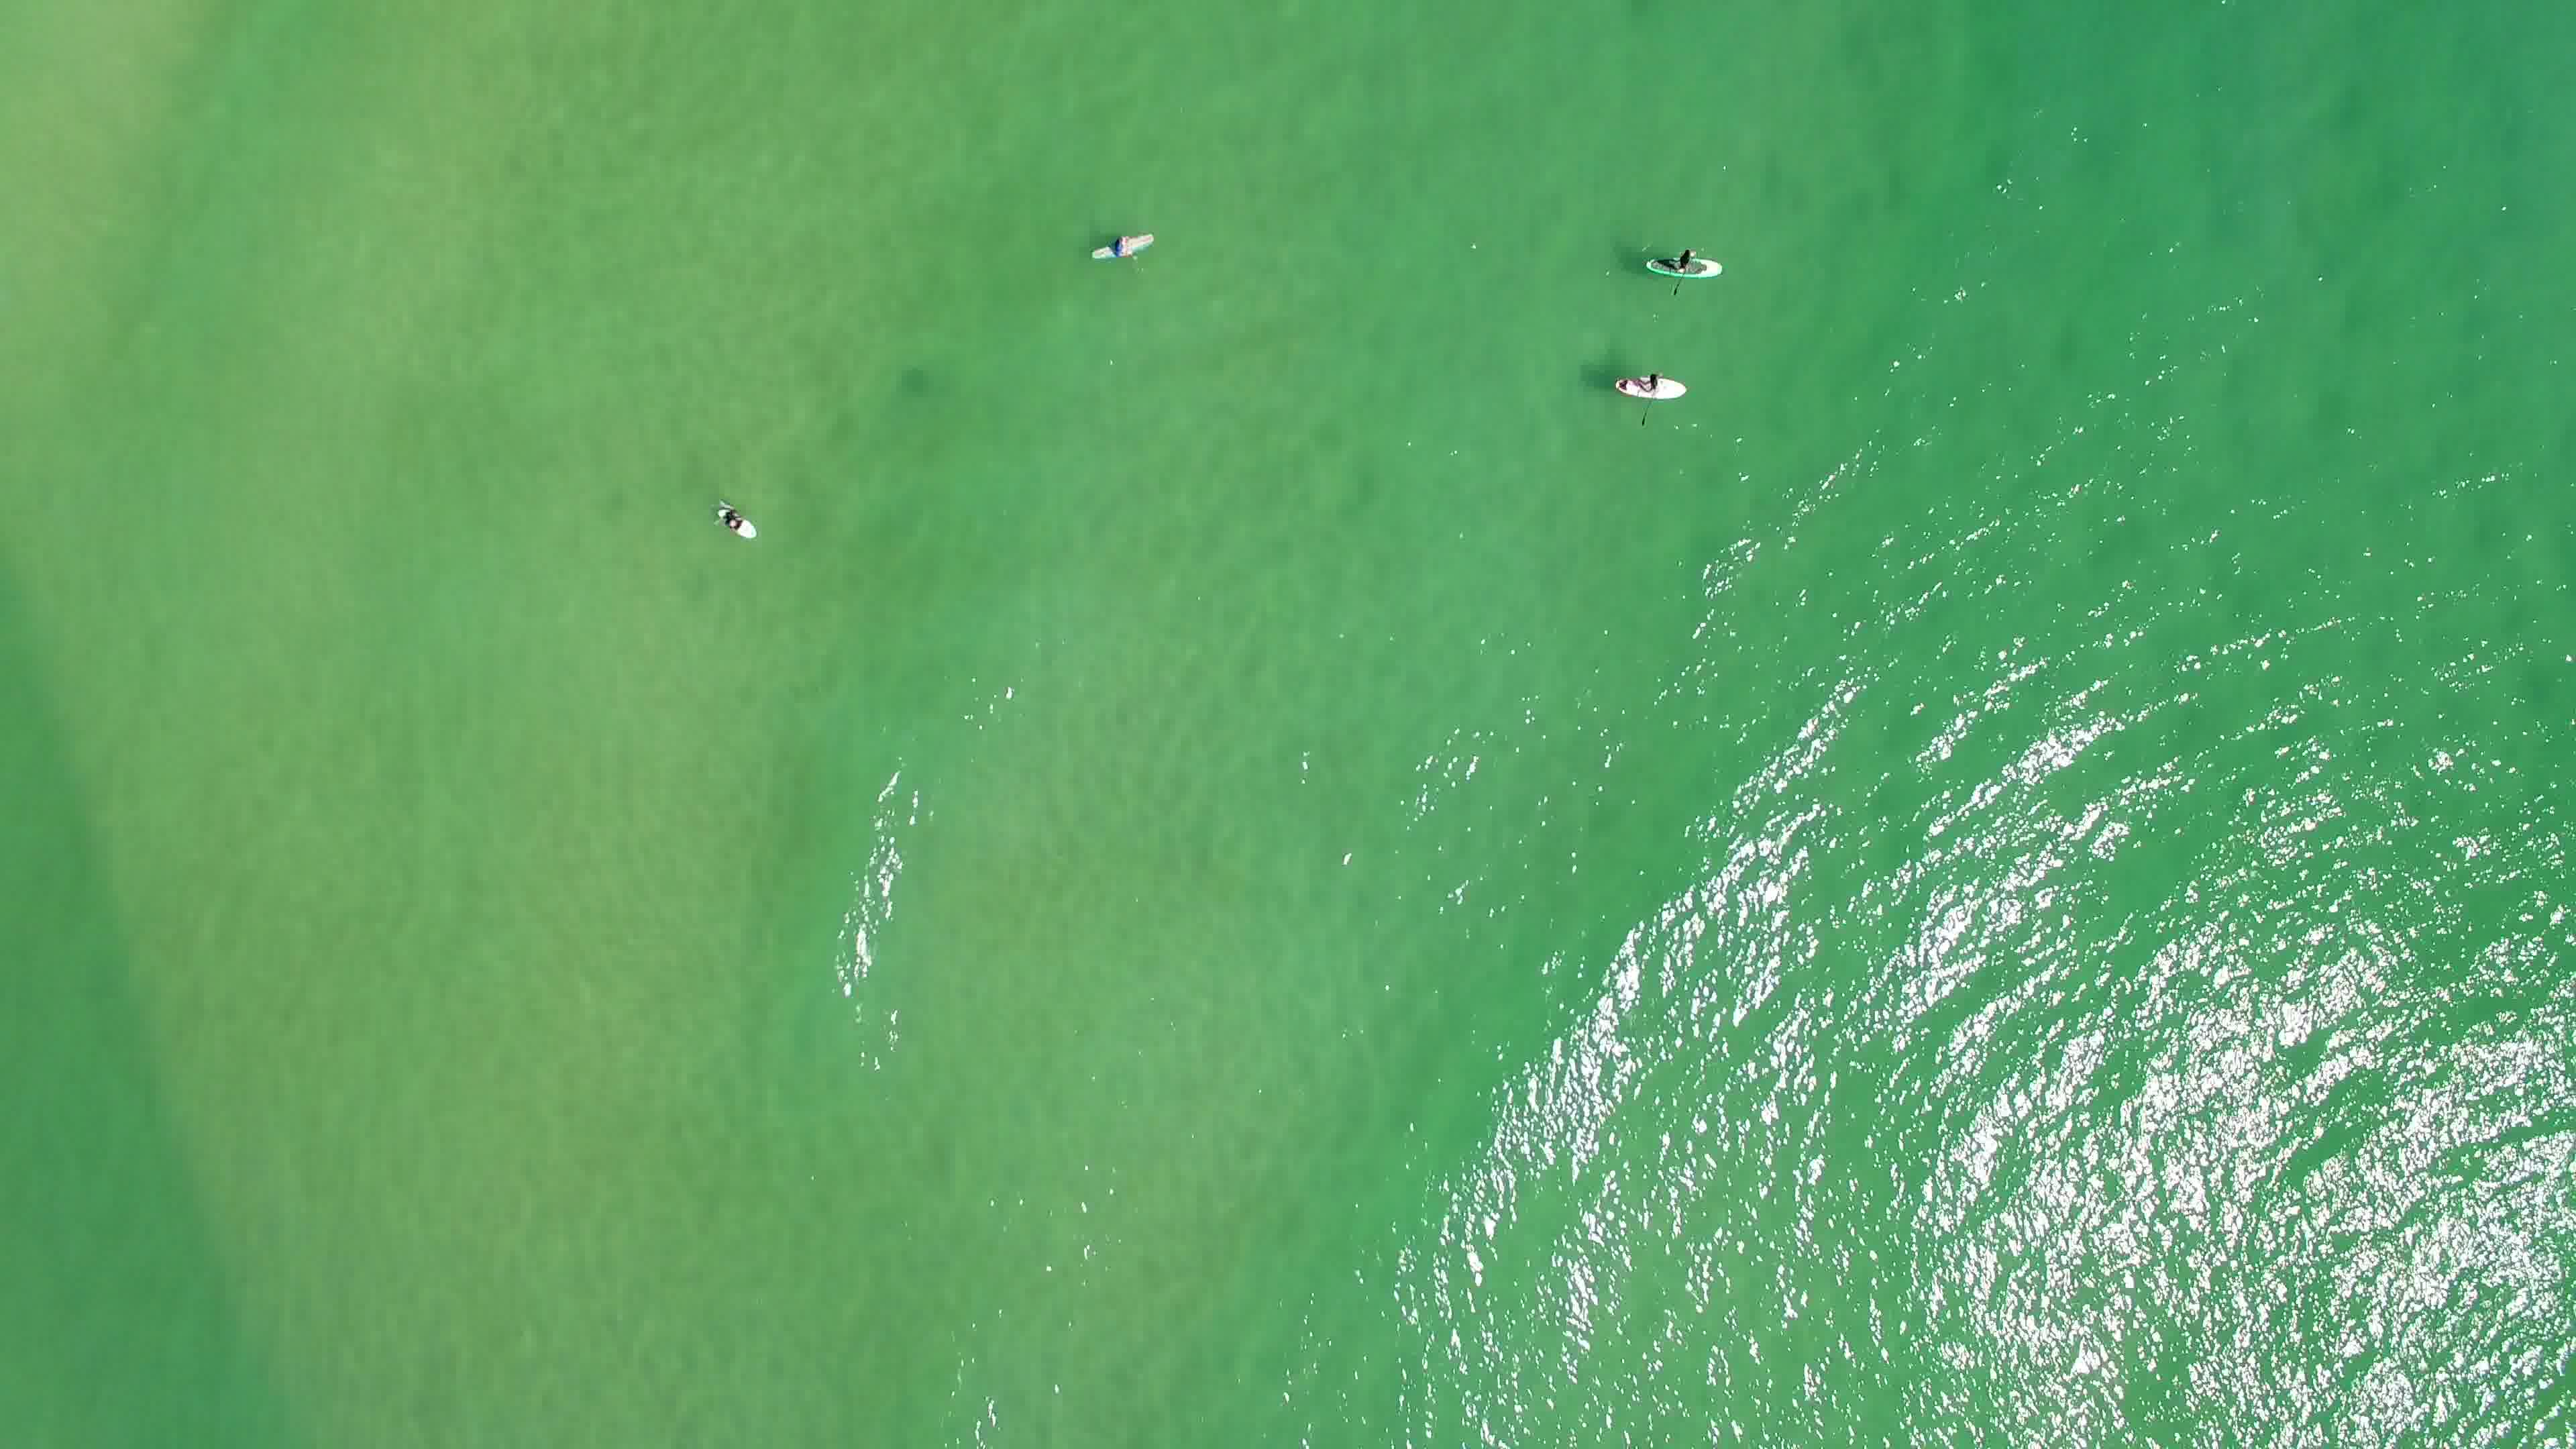surfer: (1606, 364, 1697, 428), (1640, 248, 1730, 297), (1086, 225, 1169, 265), (706, 494, 768, 543)
